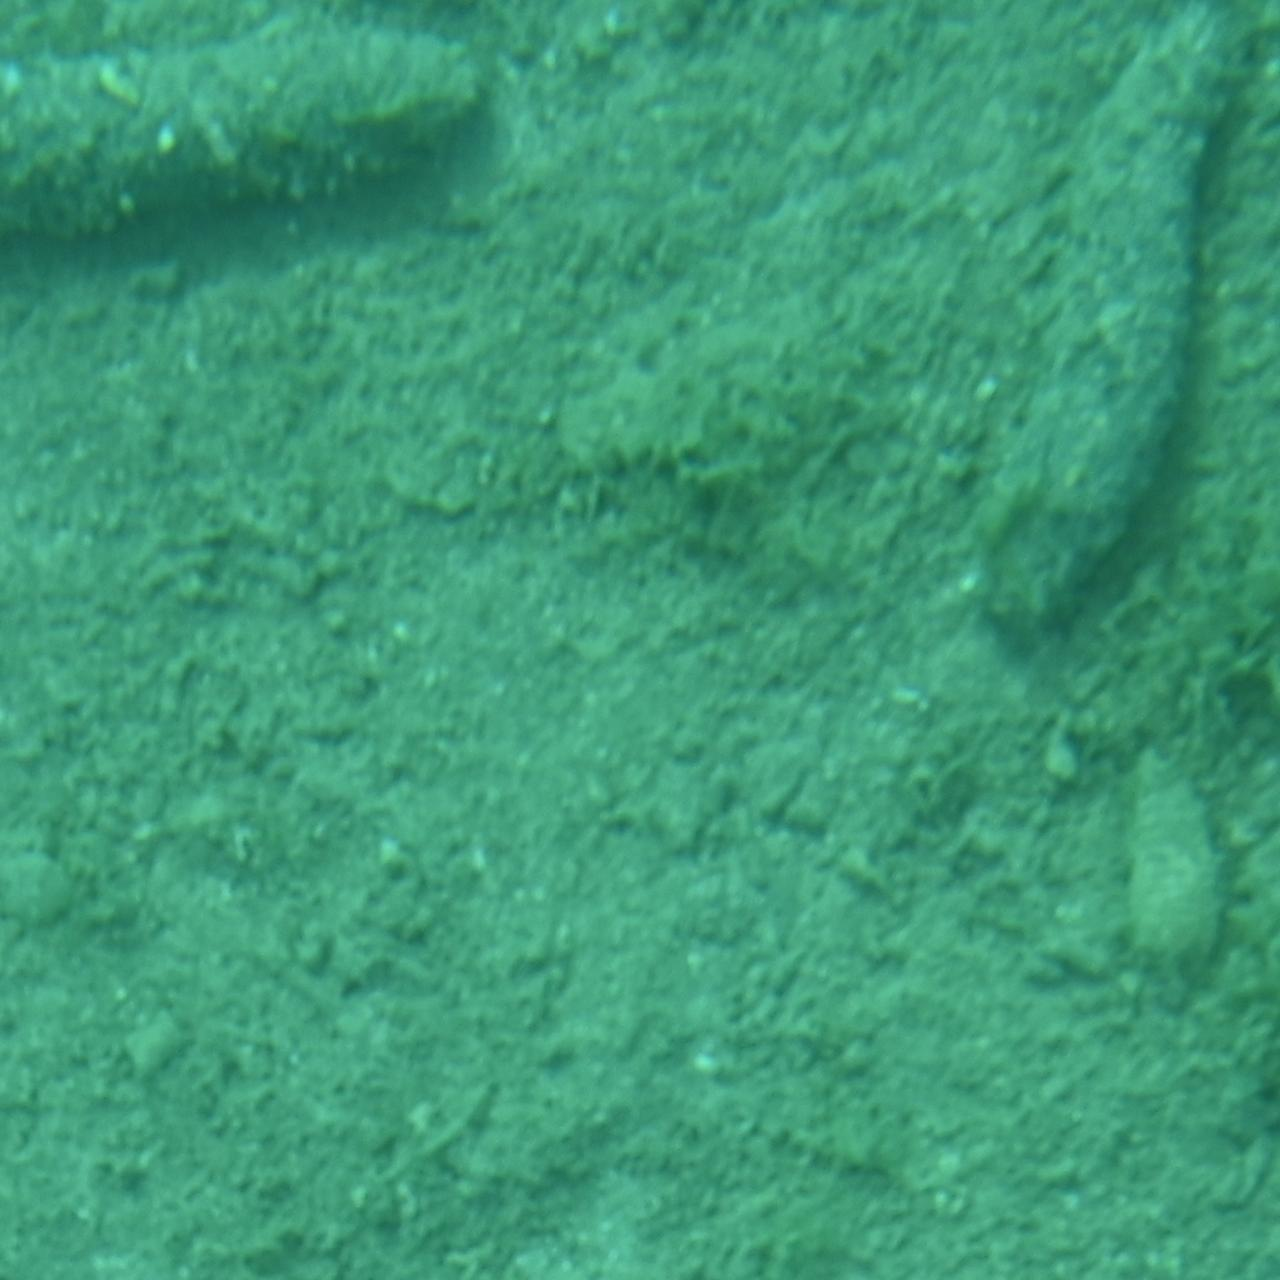Holothuria tubulosa: (971, 0, 1273, 647), (0, 9, 486, 305)
